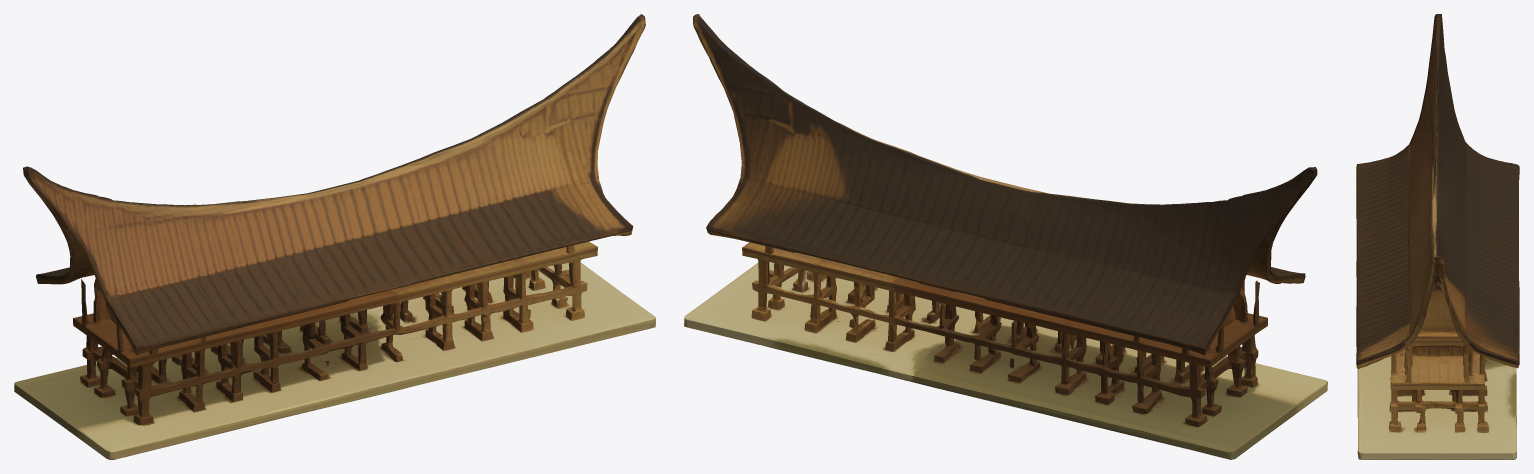
File: sumatera-barat.glb
3 views of the same model, side by side, from view 1: azimuth 30°, elevation 25°; view 2: azimuth 150°, elevation 25°; view 3: azimuth 270°, elevation 25° (orthographic). The views are drawn at different scales.
Visible parts, largest first — view 1: world; view 2: world; view 3: world.
Part boxes in pixels (x1=…): world: x1=14, y1=14, x2=655, y2=459; world: x1=684, y1=14, x2=1327, y2=459; world: x1=1356, y1=14, x2=1519, y2=459.
Bounding box in the file's own units: 0.7016 × 0.2901 × 0.1973.
Materials: 1 (1 with a texture image).
